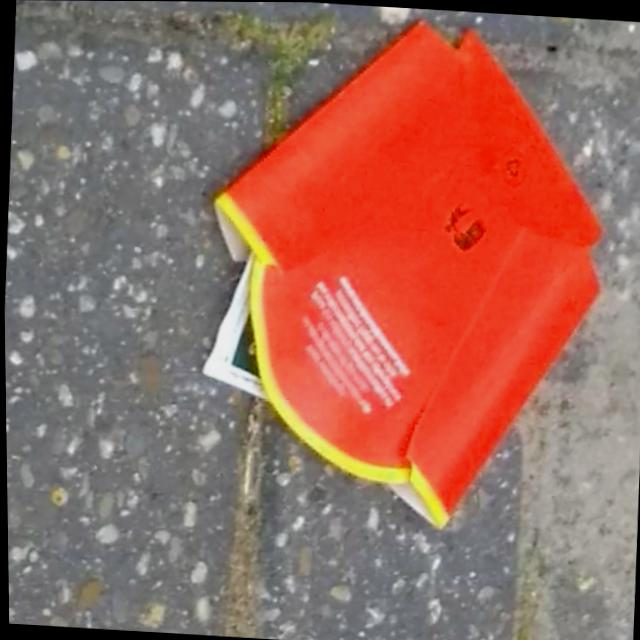Paper: (188, 5, 624, 543)
